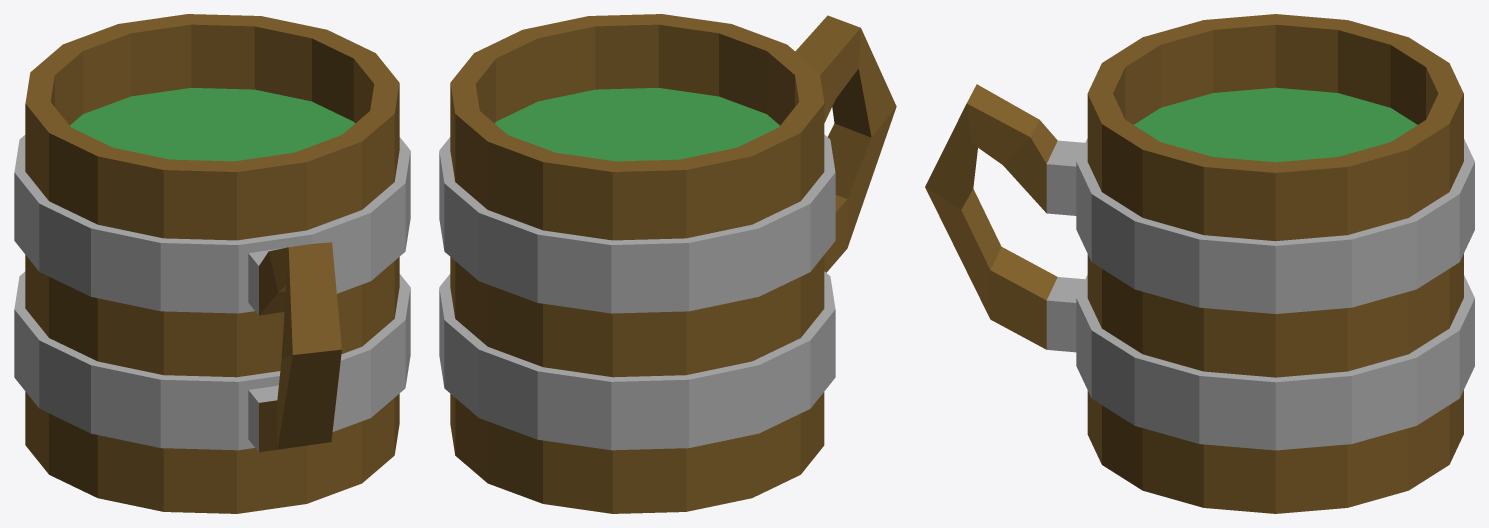
File: Groeg_Mug.fbx
The picture shows the model from 3 angles, left to right: view 1: azimuth 30°, elevation 25°; view 2: azimuth 150°, elevation 25°; view 3: azimuth 270°, elevation 25°; orthographic projection.
Parts seen in each view (by area): view 1: Cylinder; view 2: Cylinder; view 3: Cylinder.
Boxes of the visible parts, x1,y1,x2,y2 form: Cylinder: [14, 14, 410, 513]; Cylinder: [439, 14, 896, 513]; Cylinder: [925, 14, 1474, 513].
Size of the model in its own units: 212 by 200 by 292.
